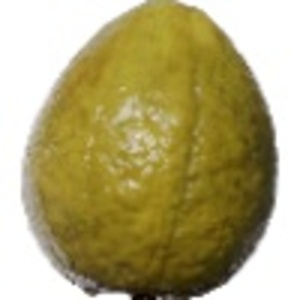goiaba: (12, 5, 285, 293)
